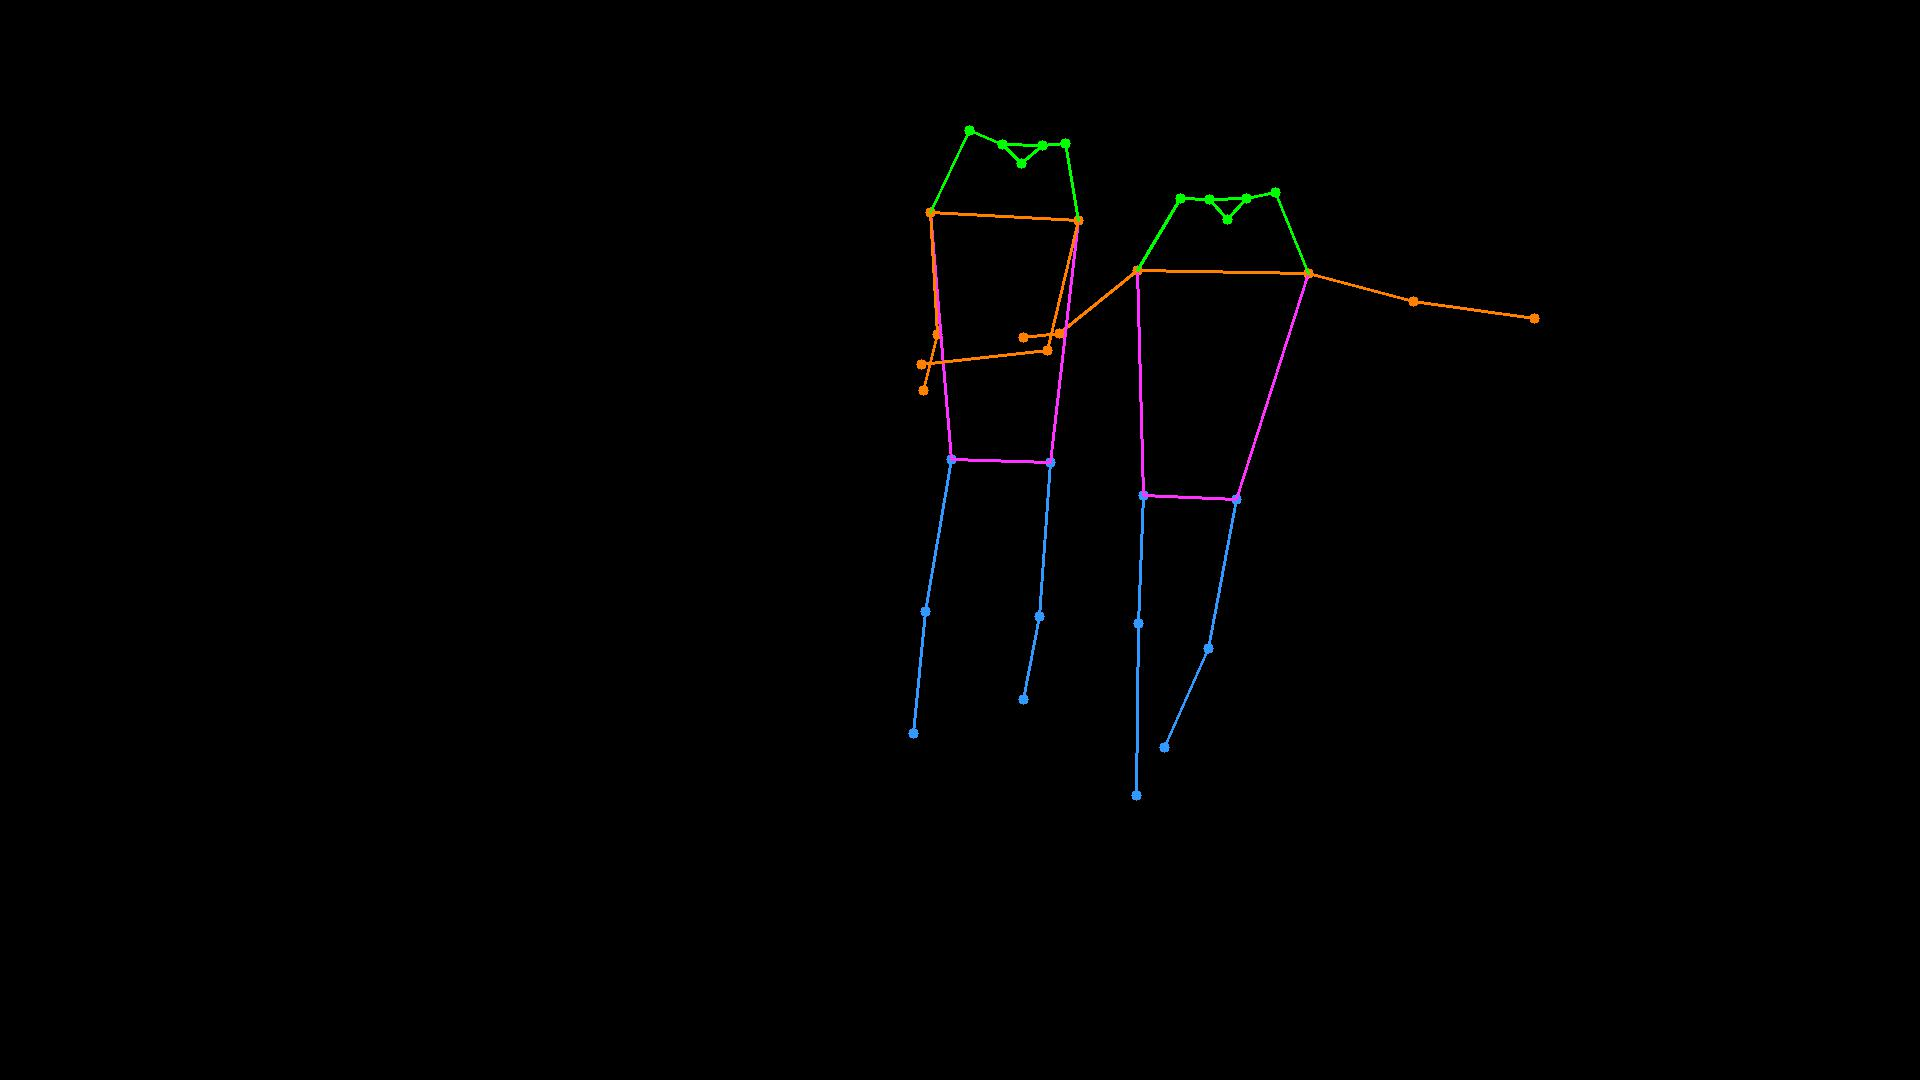normal: (887, 109, 1553, 833)
